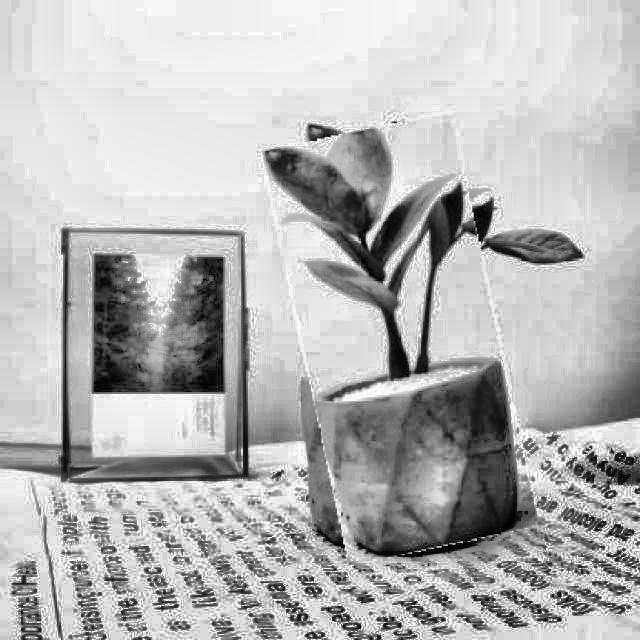plants: (283, 118, 519, 557)
